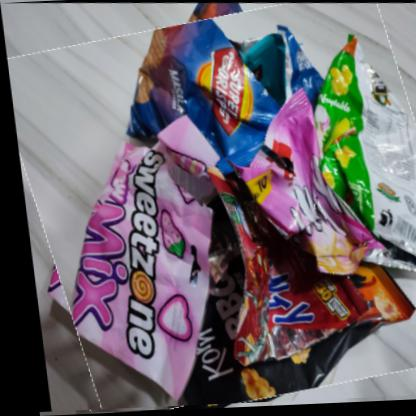Garbage: (1, 1, 416, 415)
